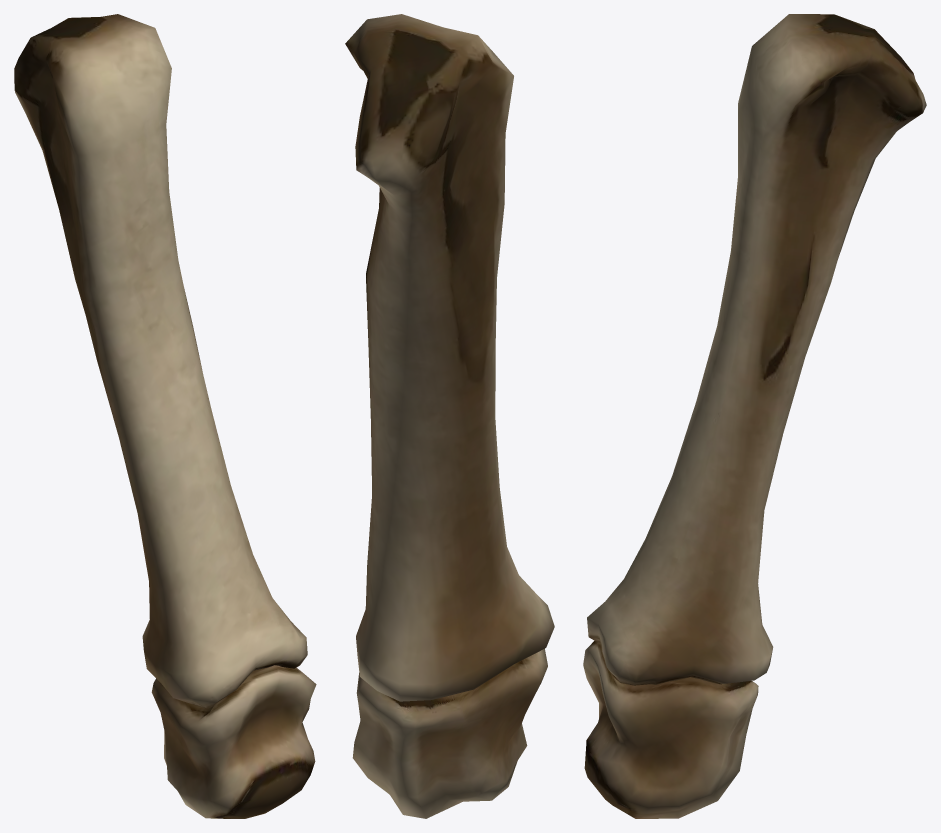
File: Metacarpal_III.glb
3 views of the same model, side by side, from view 1: azimuth 30°, elevation 25°; view 2: azimuth 150°, elevation 25°; view 3: azimuth 270°, elevation 25° (orthographic). The views are drawn at different scales.
Parts seen in each view (by area): view 1: Metacarpal_III_Left1:Group23447; view 2: Metacarpal_III_Left1:Group23447; view 3: Metacarpal_III_Left1:Group23447.
Boxes of the visible parts, x1,y1,x2,y2 form: Metacarpal_III_Left1:Group23447: [14, 14, 316, 818]; Metacarpal_III_Left1:Group23447: [345, 14, 554, 818]; Metacarpal_III_Left1:Group23447: [583, 14, 926, 818].
Bounding box in the file's own units: 13.69 × 54.8 × 22.53.
Materials: 1 (1 with a texture image).
